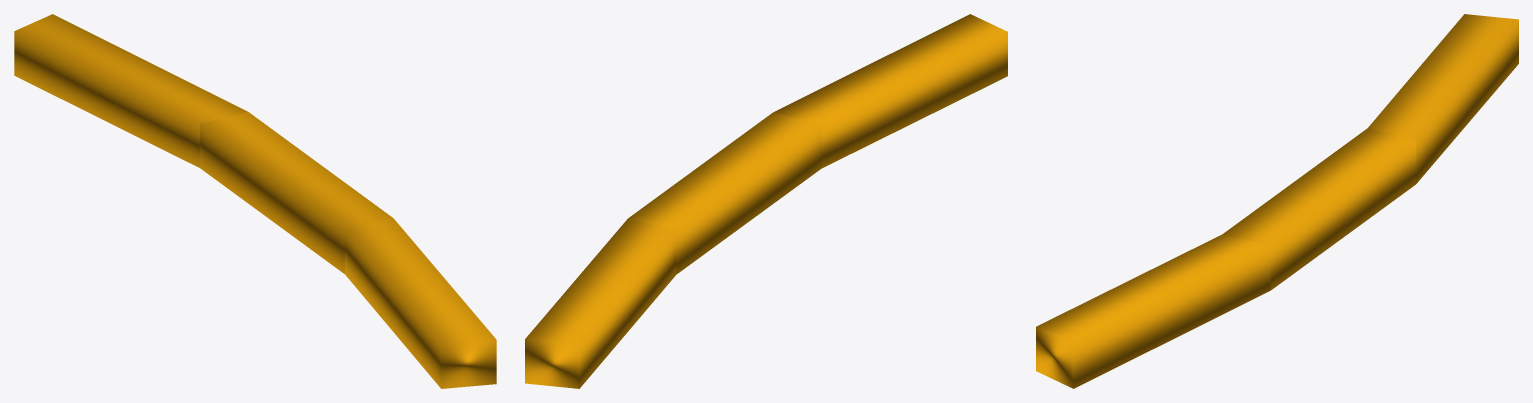
File: Rail_03.fbx
The picture shows the model from 3 angles, left to right: view 1: azimuth 30°, elevation 25°; view 2: azimuth 150°, elevation 25°; view 3: azimuth 330°, elevation 25°; orthographic projection.
Visible parts, largest first — view 1: Rail_03; view 2: Rail_03; view 3: Rail_03.
Part boxes in pixels (box(x1,y1,x2,y2)): Rail_03: box(14, 14, 496, 388); Rail_03: box(525, 14, 1007, 388); Rail_03: box(1036, 14, 1518, 388).
Bounding box in the file's own units: 23.5 × 10.66 × 193.
